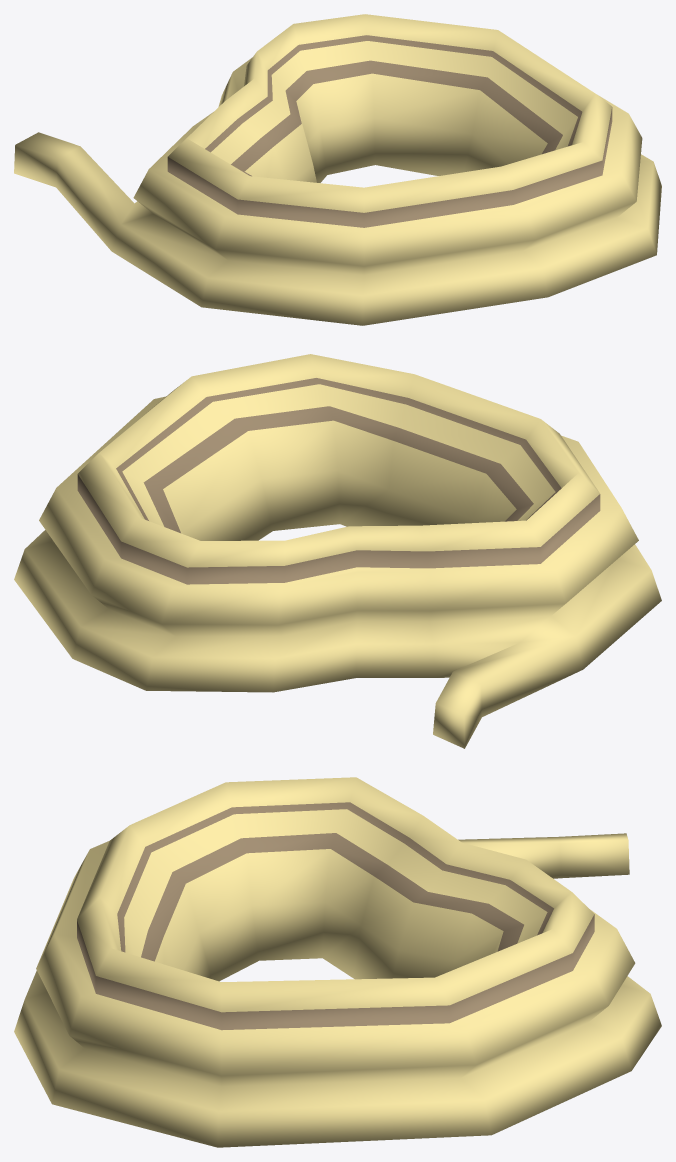
The model's file is rope.fbx.
The picture shows the model from 3 angles, top to bottom: view 1: azimuth 30°, elevation 25°; view 2: azimuth 150°, elevation 25°; view 3: azimuth 270°, elevation 25°; orthographic projection. The views are drawn at different scales.
Visible parts, largest first — view 1: Torus; view 2: Torus; view 3: Torus.
Boxes of the visible parts, x1,y1,x2,y2 form: Torus: [14, 14, 661, 325]; Torus: [14, 354, 661, 748]; Torus: [14, 777, 661, 1147].
Size of the model in its own units: 87 by 19.87 by 85.37.
